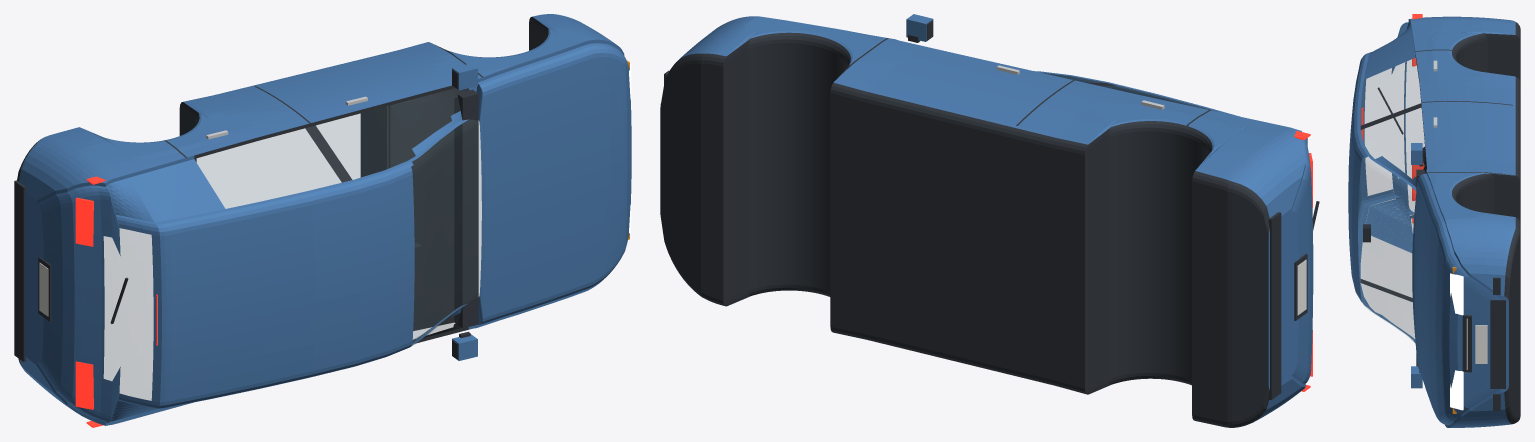
The model's file is vehicle.glb.
3 views of the same model, side by side, from view 1: azimuth 30°, elevation 25°; view 2: azimuth 150°, elevation 25°; view 3: azimuth 270°, elevation 25° (orthographic). The views are drawn at different scales.
Parts seen in each view (by area): view 1: body_paint_visual, body_glass_visual, dashboard_visual, firewall_visual, body_black_visual, rear_lower_visual, dashboard_lower_visual, tail_light_left_visual, tail_light_right_visual; view 2: body_black_visual, body_paint_visual, rear_lower_visual; view 3: body_paint_visual, body_glass_visual, body_black_visual, grille_lower_visual, grille_upper_visual, front_plate_visual, headlight_left_visual, headlight_right_visual, mirror_left_visual, mirror_right_visual.
Part boxes in pixels (x1,y1,x2,y2): body_paint_visual: (19,14,631,425); body_glass_visual: (104,94,481,400); dashboard_visual: (388,94,454,331); firewall_visual: (454,89,478,328); body_black_visual: (17,17,548,364); rear_lower_visual: (14,180,26,361); dashboard_lower_visual: (360,106,388,177); tail_light_left_visual: (75,197,93,246); tail_light_right_visual: (75,361,93,409); body_black_visual: (660,32,1269,427); body_paint_visual: (679,16,1313,422); rear_lower_visual: (1268,212,1281,399); body_paint_visual: (1348,16,1515,427); body_glass_visual: (1358,58,1424,343); body_black_visual: (1360,22,1520,423); grille_lower_visual: (1490,299,1505,388); grille_upper_visual: (1462,315,1471,372); front_plate_visual: (1475,325,1487,363); headlight_left_visual: (1450,273,1463,315); headlight_right_visual: (1450,370,1463,410); mirror_left_visual: (1411,143,1422,164); mirror_right_visual: (1411,366,1422,388).
Size of the model in its own units: 4.41 by 2.05 by 1.35.
